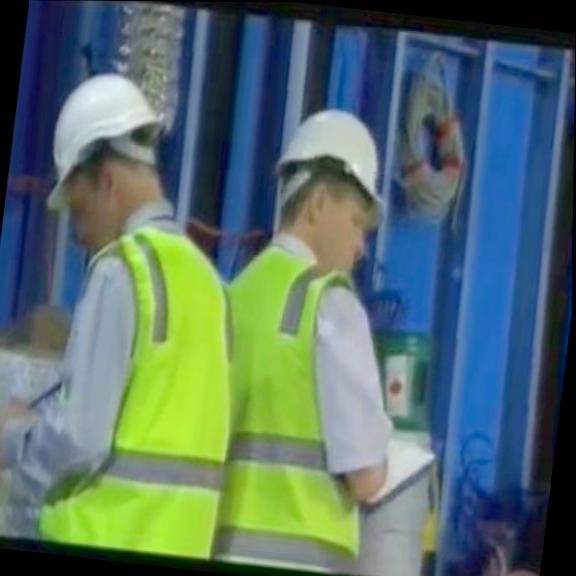safety_vest: (34, 220, 250, 556), (192, 235, 395, 573)
